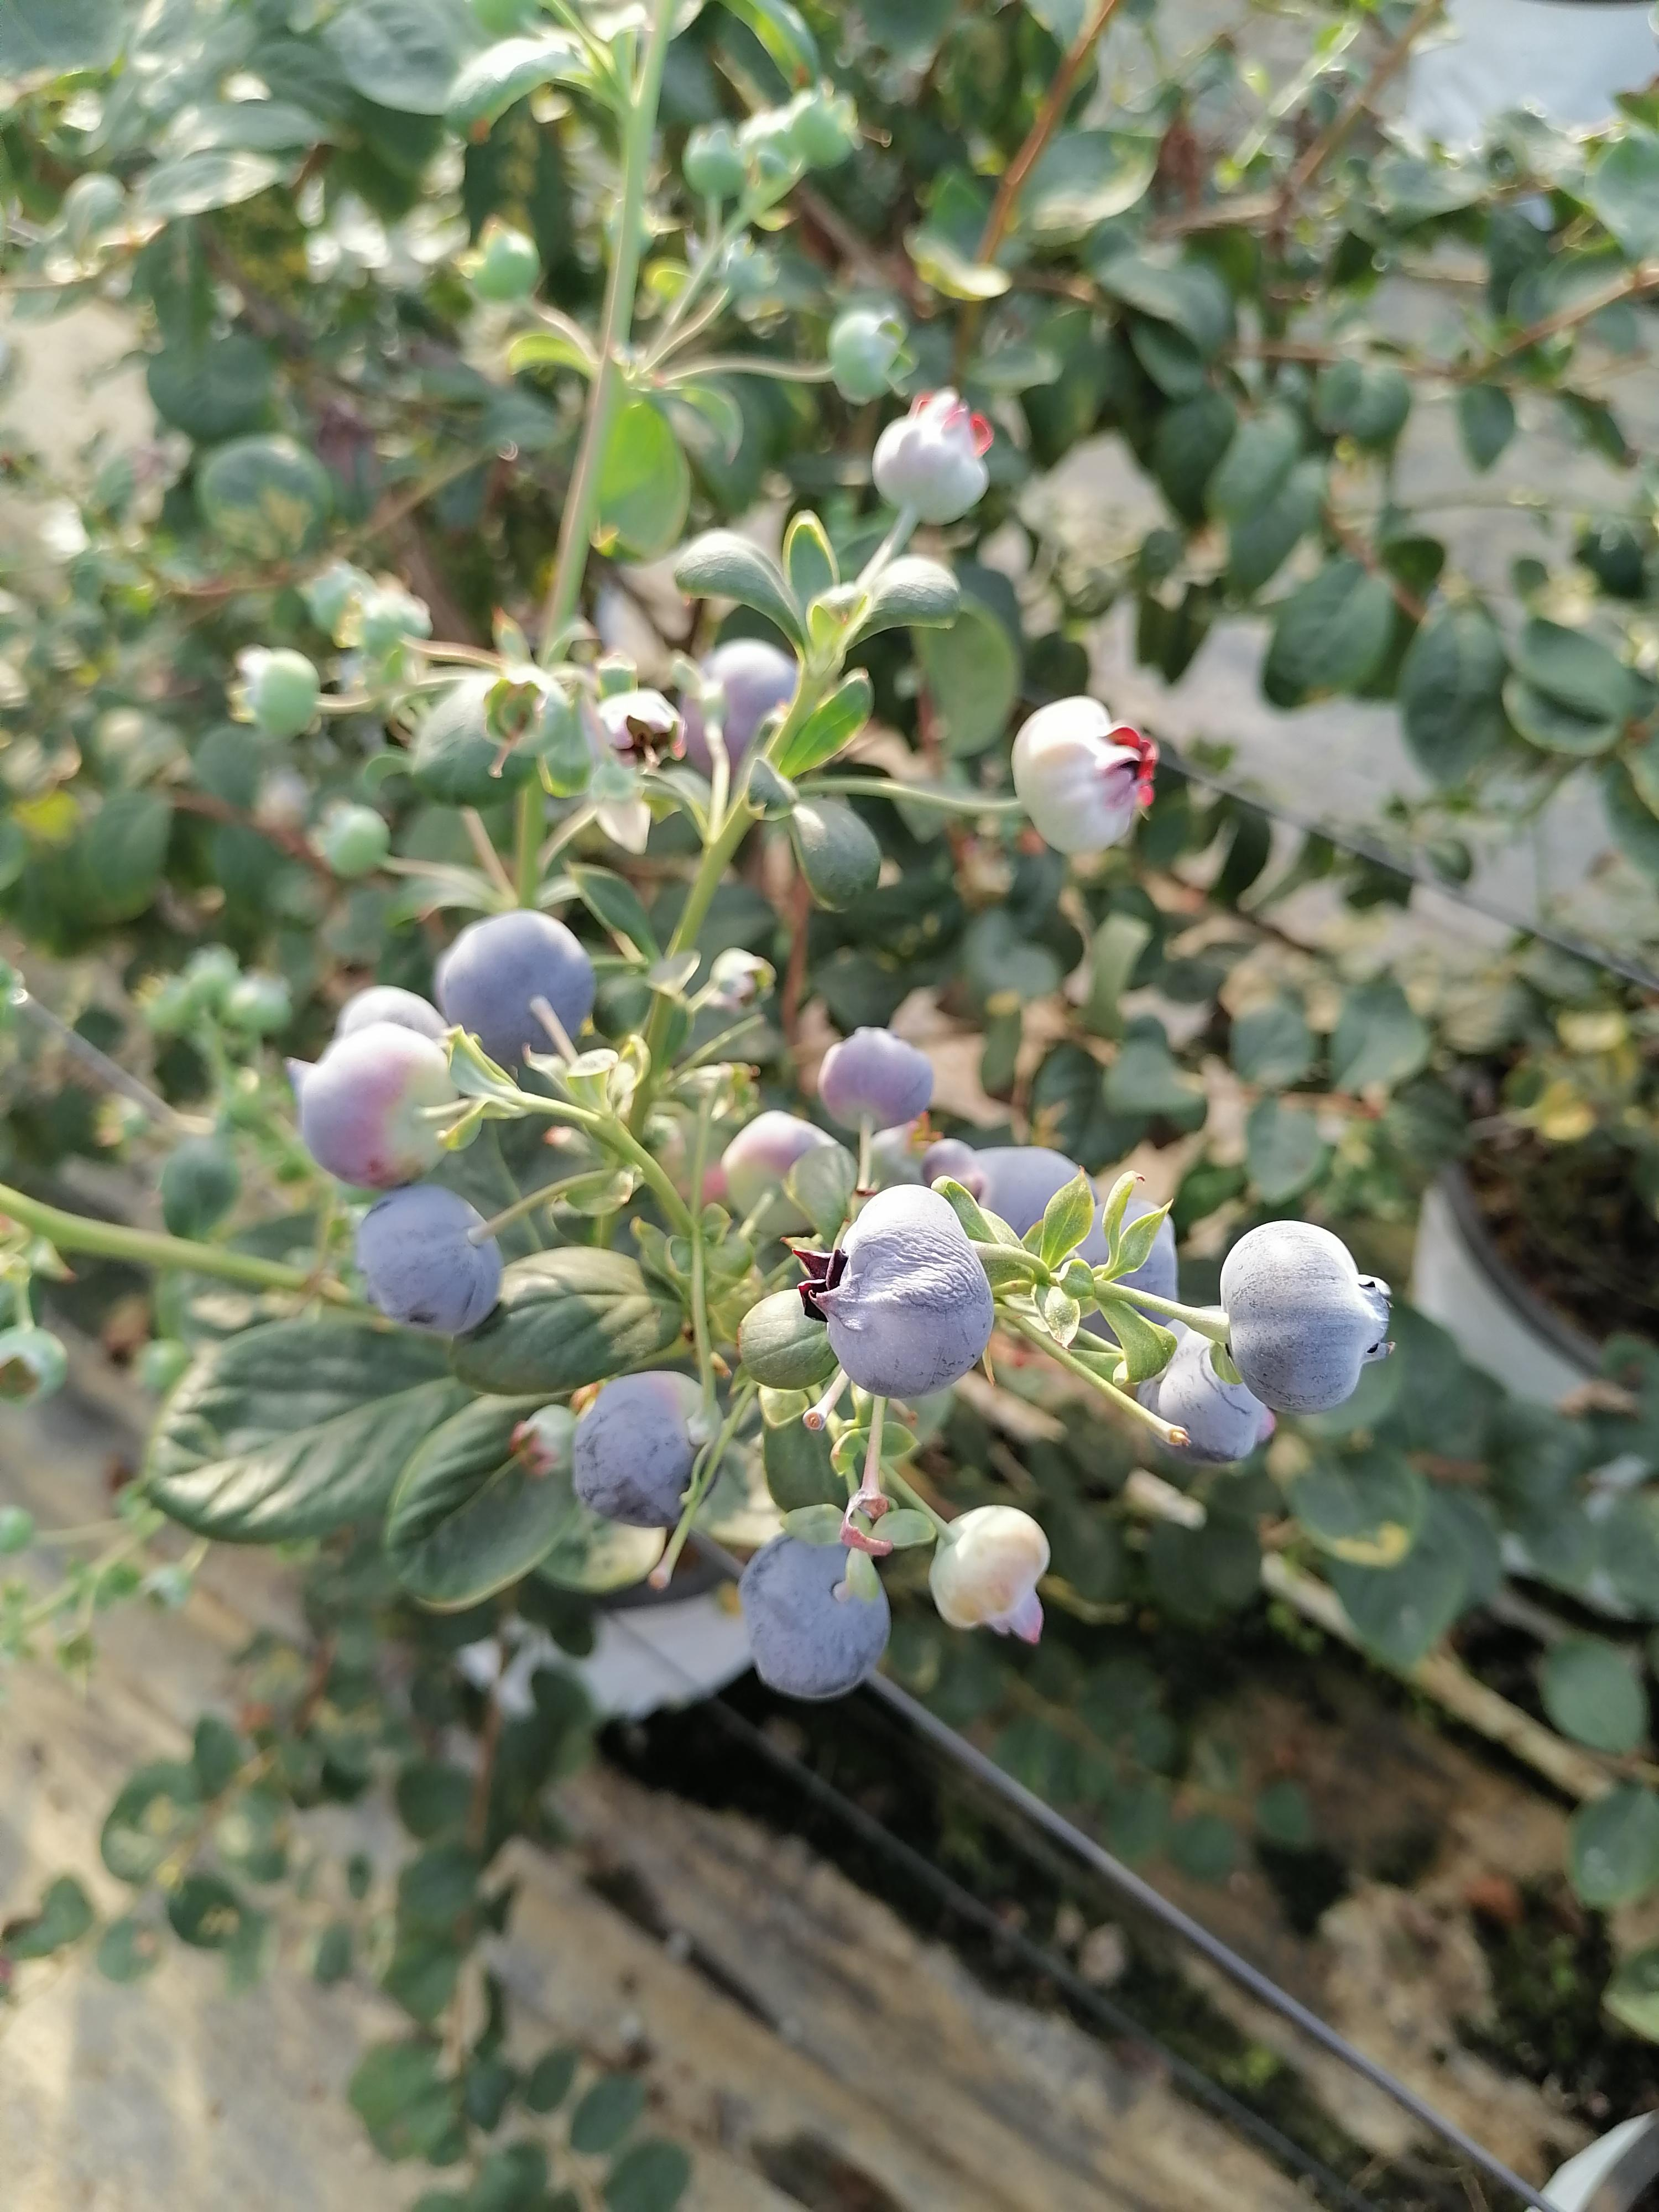ripe-blueberries: (791, 1183, 997, 1400), (1220, 1217, 1396, 1418), (737, 1521, 890, 1700), (570, 1371, 727, 1529), (446, 909, 599, 1064), (1032, 1198, 1180, 1350), (356, 1186, 504, 1336), (1141, 1305, 1276, 1468), (978, 1144, 1101, 1242), (823, 1026, 934, 1132)
